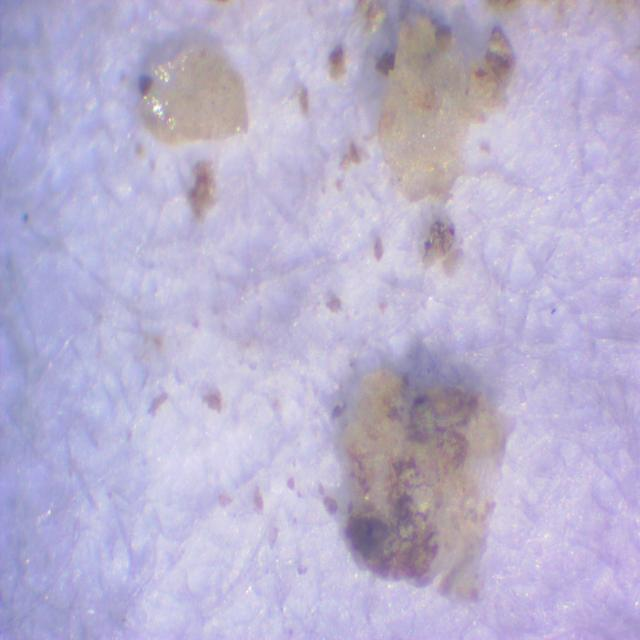microplastic: (344, 368, 517, 606), (378, 18, 517, 200), (135, 40, 251, 144)
